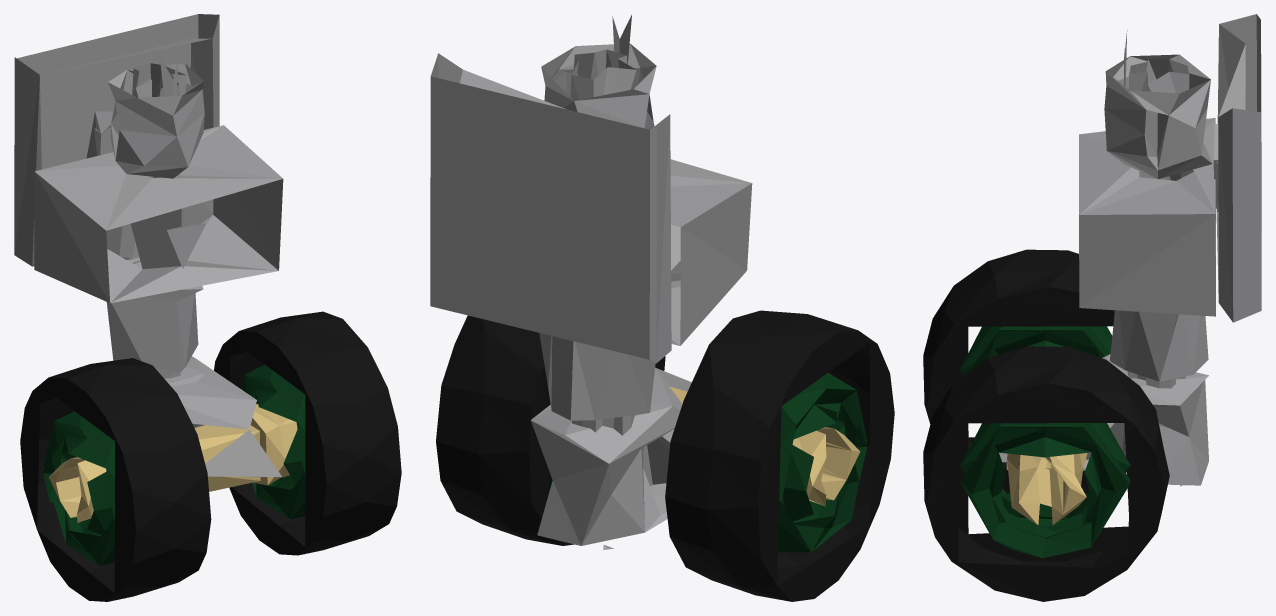
The model's file is gear-nose.glb.
3 renders of one model, left to right at view 1: azimuth 30°, elevation 25°; view 2: azimuth 150°, elevation 25°; view 3: azimuth 270°, elevation 25°, orthographic. The views are drawn at different scales.
Visible parts, largest first — view 1: noseGear; view 2: noseGear; view 3: noseGear.
Boxes of the visible parts, x1=… form: noseGear: x1=14, y1=14, x2=401, y2=601; noseGear: x1=430, y1=15, x2=894, y2=601; noseGear: x1=923, y1=14, x2=1261, y2=601.
Size of the model in its own units: 1.03 by 1.66 by 1.02.
